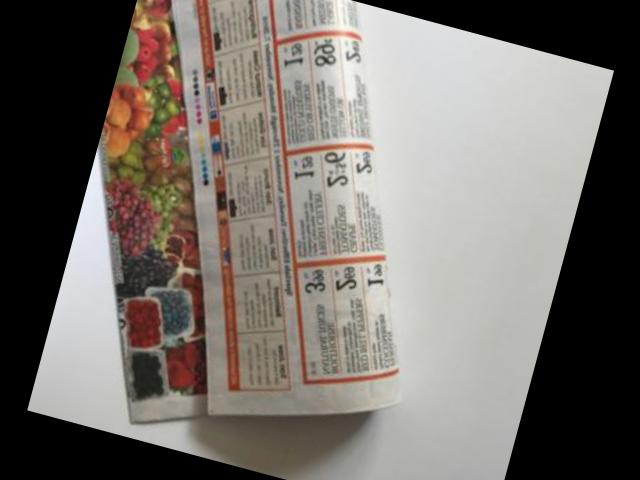cardboard paper: (96, 0, 397, 420)
